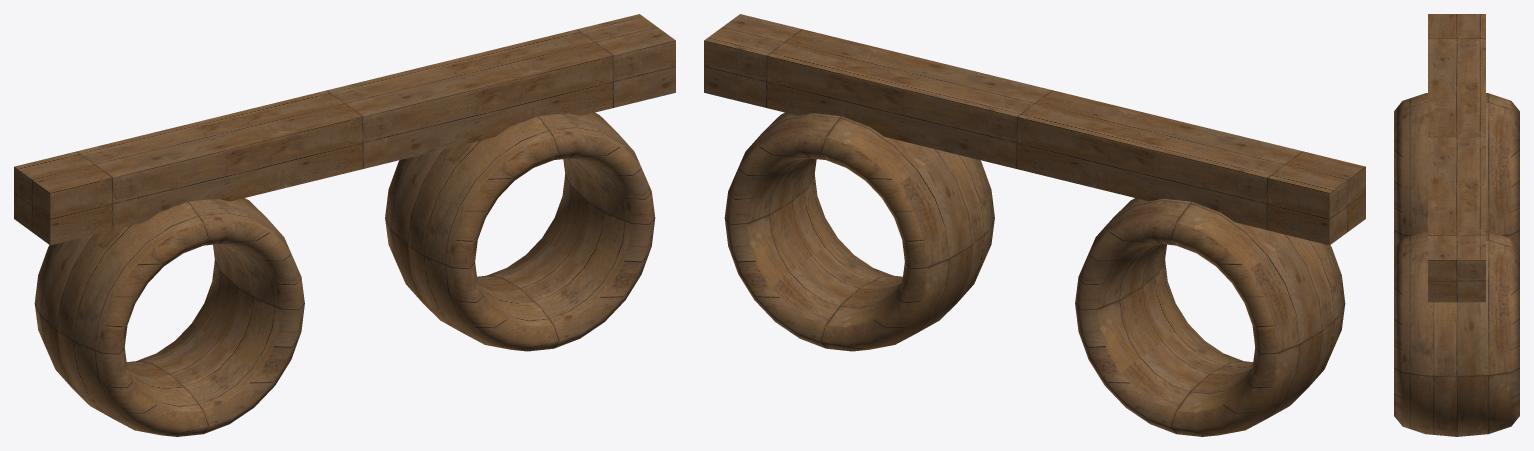
Rendered from jugo.glb.
The picture shows the model from 3 angles, left to right: view 1: azimuth 30°, elevation 25°; view 2: azimuth 150°, elevation 25°; view 3: azimuth 270°, elevation 25°; orthographic projection. The views are drawn at different scales.
Visible parts, largest first — view 1: Travessa, Arco do pescoço, Arco do pescoço.001; view 2: Travessa, Arco do pescoço, Arco do pescoço.001; view 3: Arco do pescoço.001, Travessa, Arco do pescoço.
Part boxes in pixels (x1=…): Travessa: x1=14, y1=14, x2=675, y2=245; Arco do pescoço: x1=34, y1=198, x2=304, y2=436; Arco do pescoço.001: x1=385, y1=112, x2=655, y2=351; Travessa: x1=704, y1=14, x2=1365, y2=245; Arco do pescoço: x1=1075, y1=198, x2=1345, y2=436; Arco do pescoço.001: x1=724, y1=112, x2=994, y2=351; Arco do pescoço.001: x1=1394, y1=230, x2=1519, y2=436; Travessa: x1=1428, y1=14, x2=1485, y2=302; Arco do pescoço: x1=1394, y1=93, x2=1519, y2=248.
Size of the model in its own units: 2.5 by 1.05 by 0.54.
Materials: 1 (1 with a texture image).
